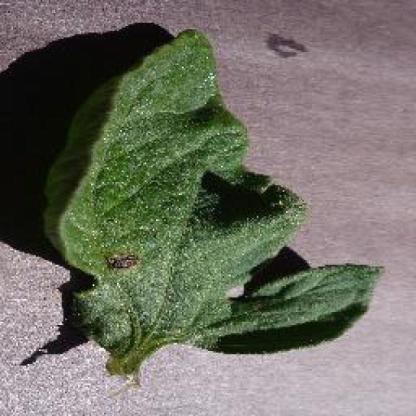Tomato_Blight: (43, 30, 382, 345)
